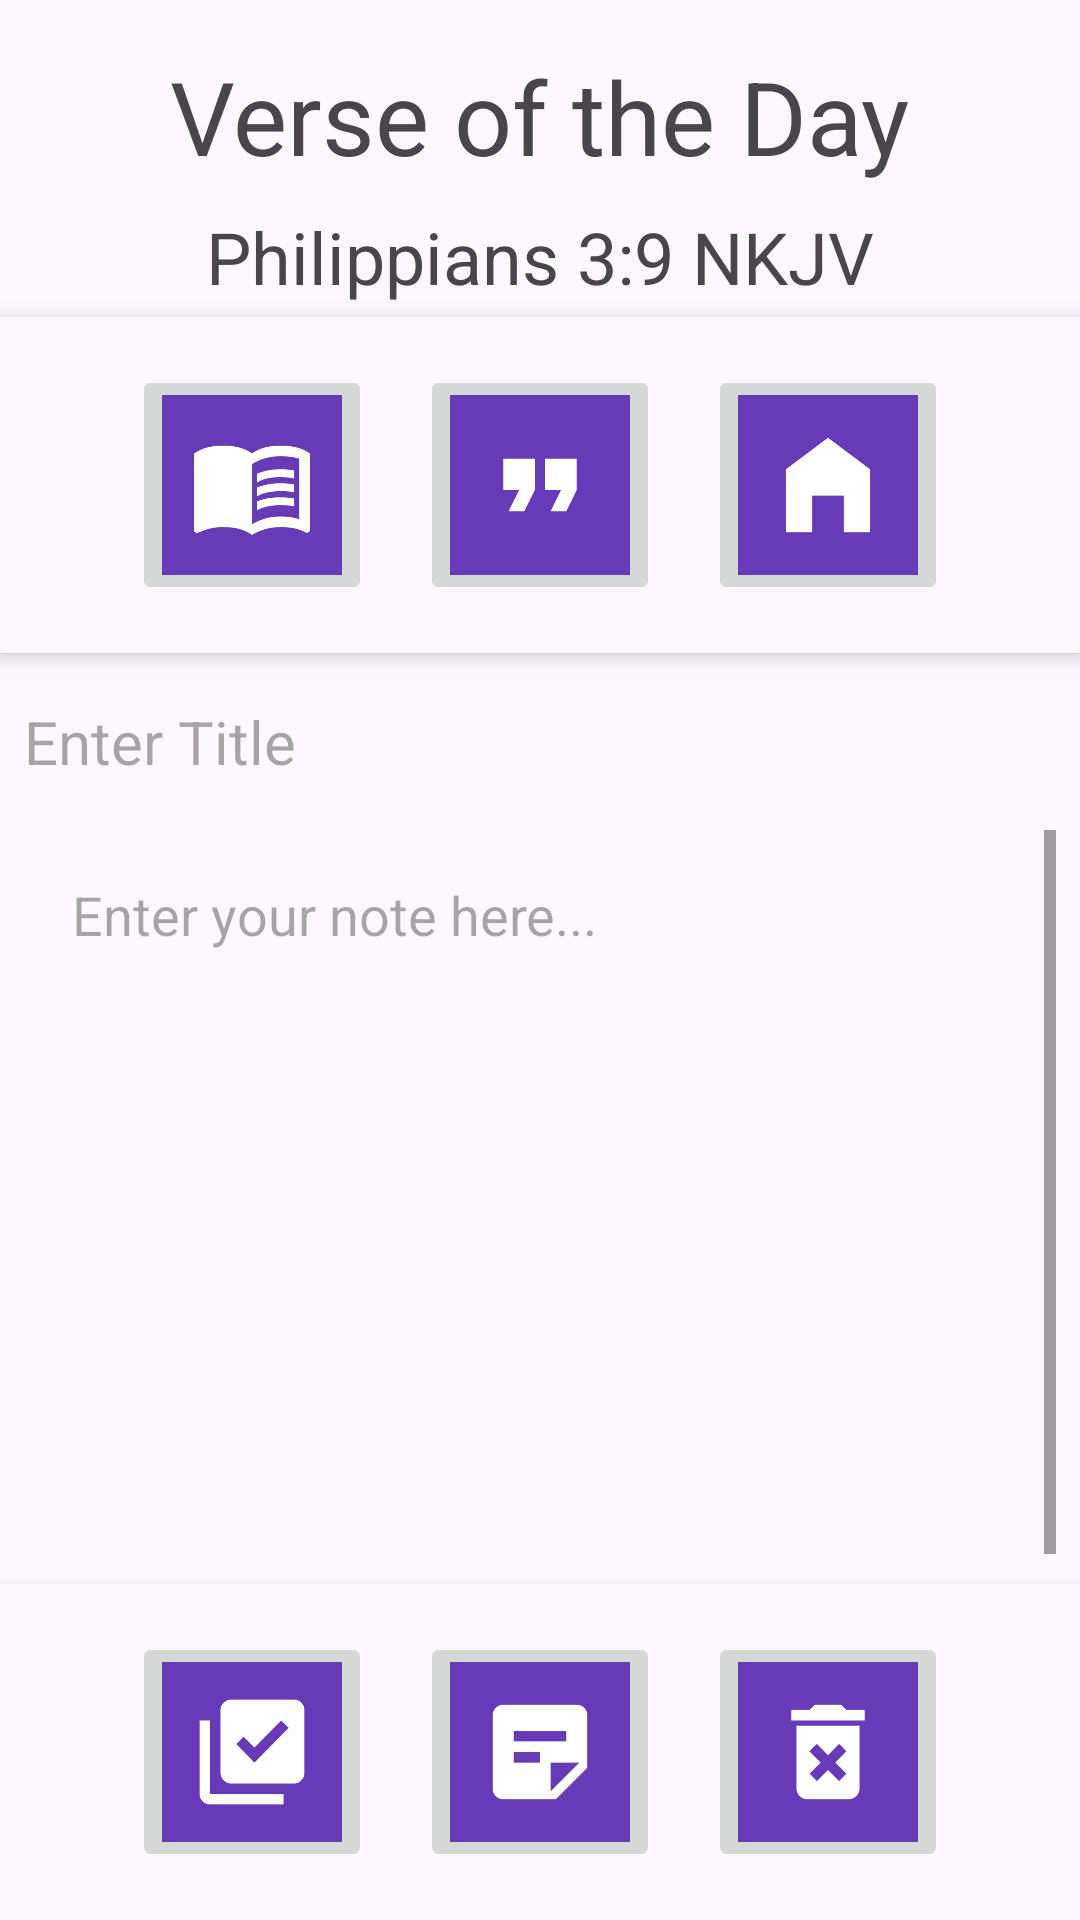

Named icons in this screenshot (1080 x 1920) and their centers, (x=x, y=y):
Delete Note: (x=828, y=1752)
Home: (x=828, y=485)
Save Note: (x=252, y=1752)
View Chapter: (x=252, y=485)
View Notes: (x=540, y=1752)
View Verse: (x=540, y=485)
